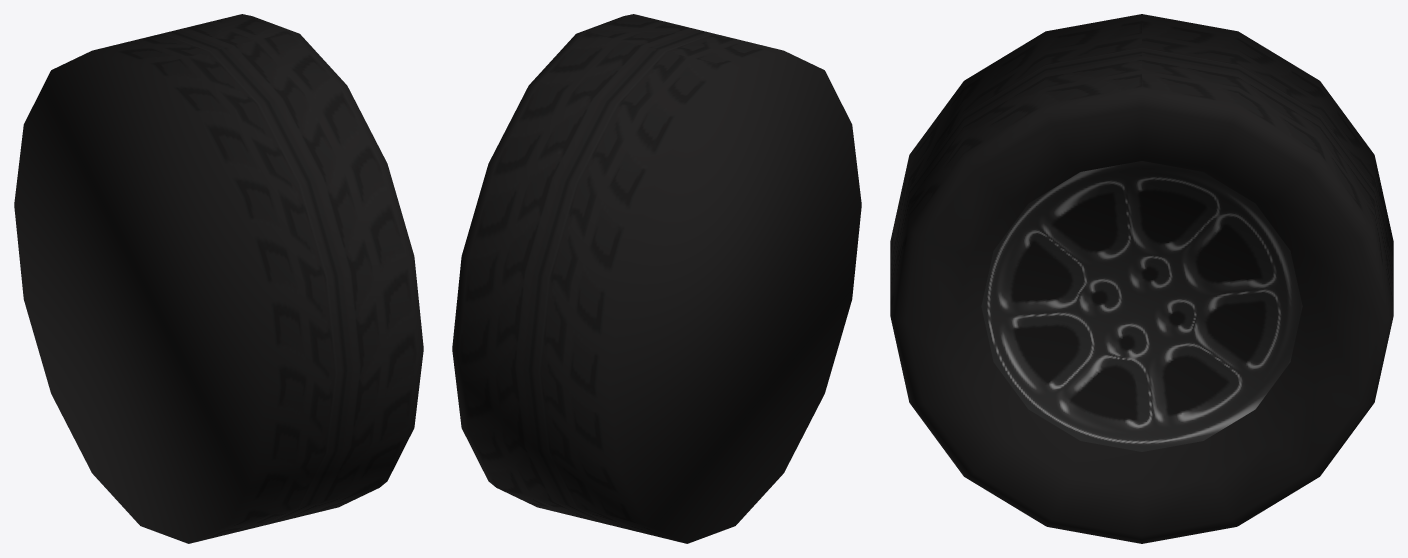
File: Tire4.fbx
3 renders of one model, left to right at view 1: azimuth 30°, elevation 25°; view 2: azimuth 150°, elevation 25°; view 3: azimuth 270°, elevation 25°, orthographic.
Visible parts, largest first — view 1: Circle.006; view 2: Circle.006; view 3: Circle.006.
Boxes of the visible parts, x1=… form: Circle.006: x1=14, y1=14, x2=423, y2=543; Circle.006: x1=452, y1=14, x2=861, y2=543; Circle.006: x1=890, y1=14, x2=1393, y2=543.
Size of the model in its own units: 23.5 by 62.84 by 62.84.
